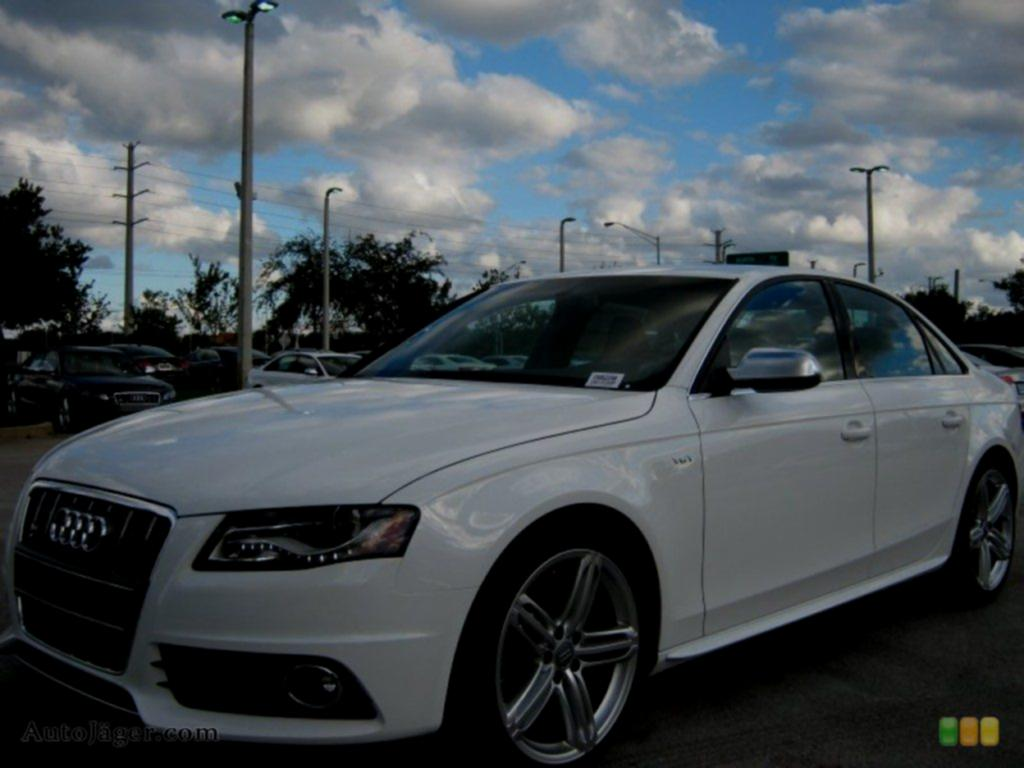Audi: (42, 499, 116, 560)
